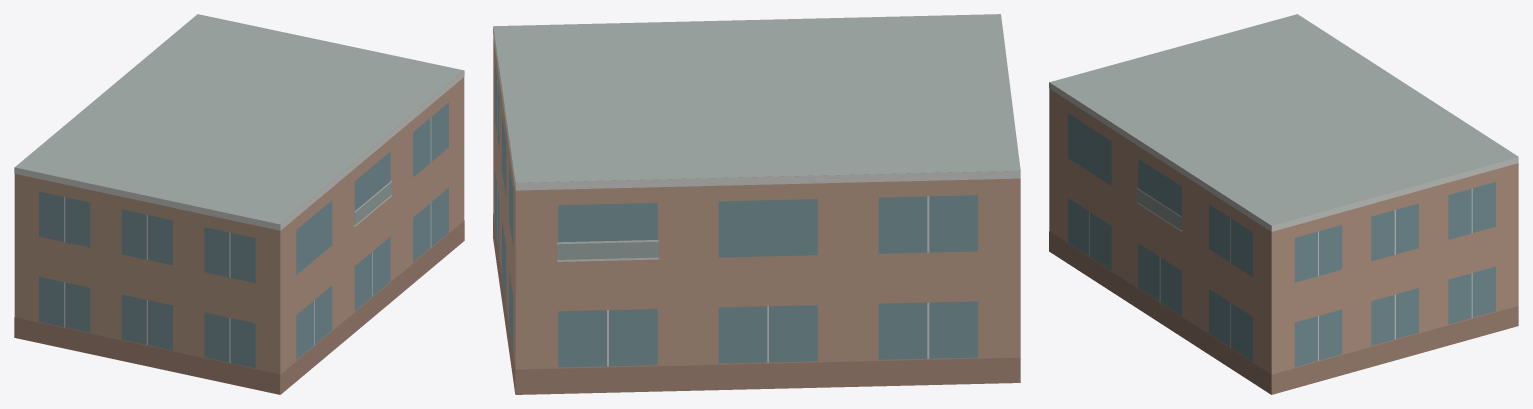
File: survey-upis-32616183.glb
3 renders of one model, left to right at view 1: azimuth 30°, elevation 25°; view 2: azimuth 150°, elevation 25°; view 3: azimuth 270°, elevation 25°, orthographic. The views are drawn at different scales.
Parts seen in each view (by area): view 1: survey-upis-32616183.tmp; view 2: survey-upis-32616183.tmp; view 3: survey-upis-32616183.tmp.
Boxes of the visible parts, <box> form: survey-upis-32616183.tmp: <box>14,14,464,394</box>; survey-upis-32616183.tmp: <box>493,14,1020,394</box>; survey-upis-32616183.tmp: <box>1049,14,1518,394</box>.
Bounding box in the file's own units: 17.72 × 6.6 × 16.61.
